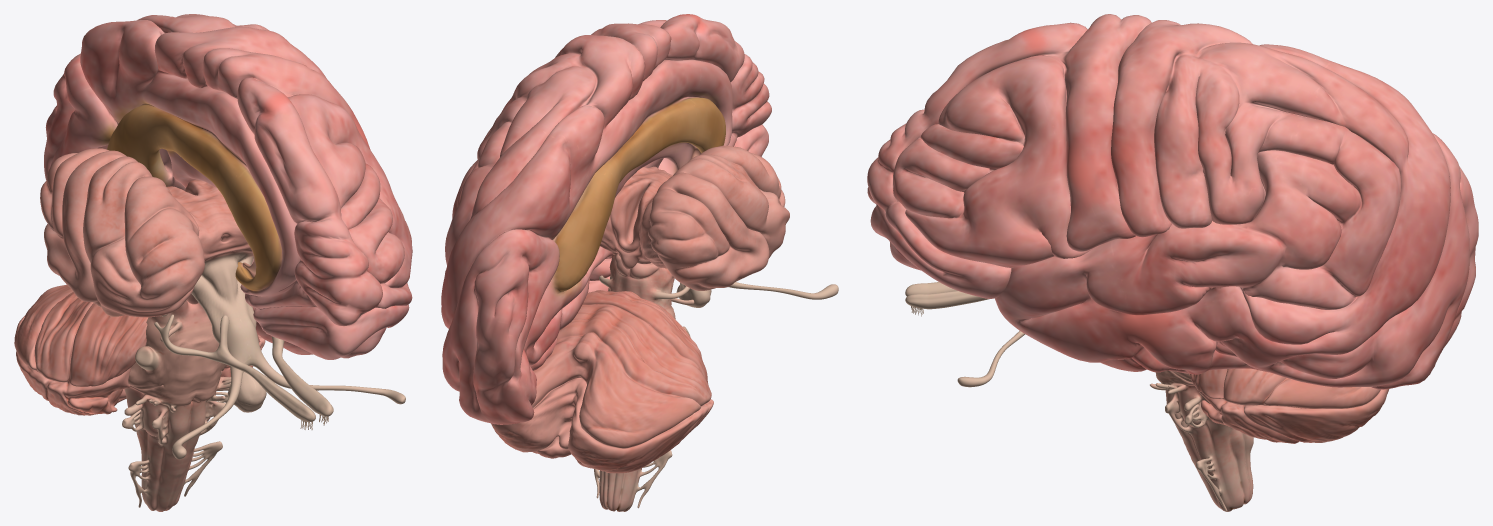
The model's file is adult_brain.glb.
The picture shows the model from 3 angles, left to right: view 1: azimuth 30°, elevation 25°; view 2: azimuth 150°, elevation 25°; view 3: azimuth 270°, elevation 25°; orthographic projection. The views are drawn at different scales.
Parts seen in each view (by area): view 1: Brain_left_hemisphere, Brain_stem, Cerebellum, Olfactory_nerve; view 2: Brain_left_hemisphere, Cerebellum, Brain_stem; view 3: Brain_left_hemisphere, Cerebellum, Brain_stem, Olfactory_nerve.
Boxes of the visible parts, x1,y1,x2,y2 form: Brain_left_hemisphere: (44, 14, 412, 359); Brain_stem: (40, 148, 405, 511); Cerebellum: (14, 284, 265, 415); Olfactory_nerve: (154, 314, 333, 429); Brain_left_hemisphere: (441, 14, 771, 424); Cerebellum: (491, 290, 713, 473); Brain_stem: (594, 145, 838, 511); Brain_left_hemisphere: (867, 14, 1478, 389); Cerebellum: (1189, 368, 1389, 443); Brain_stem: (957, 330, 1253, 511); Olfactory_nerve: (905, 282, 989, 316).
Size of what is drawn, in the model's own units: 0.0408 by 0.0663 by 0.0734.
5 materials, 5 textured.
